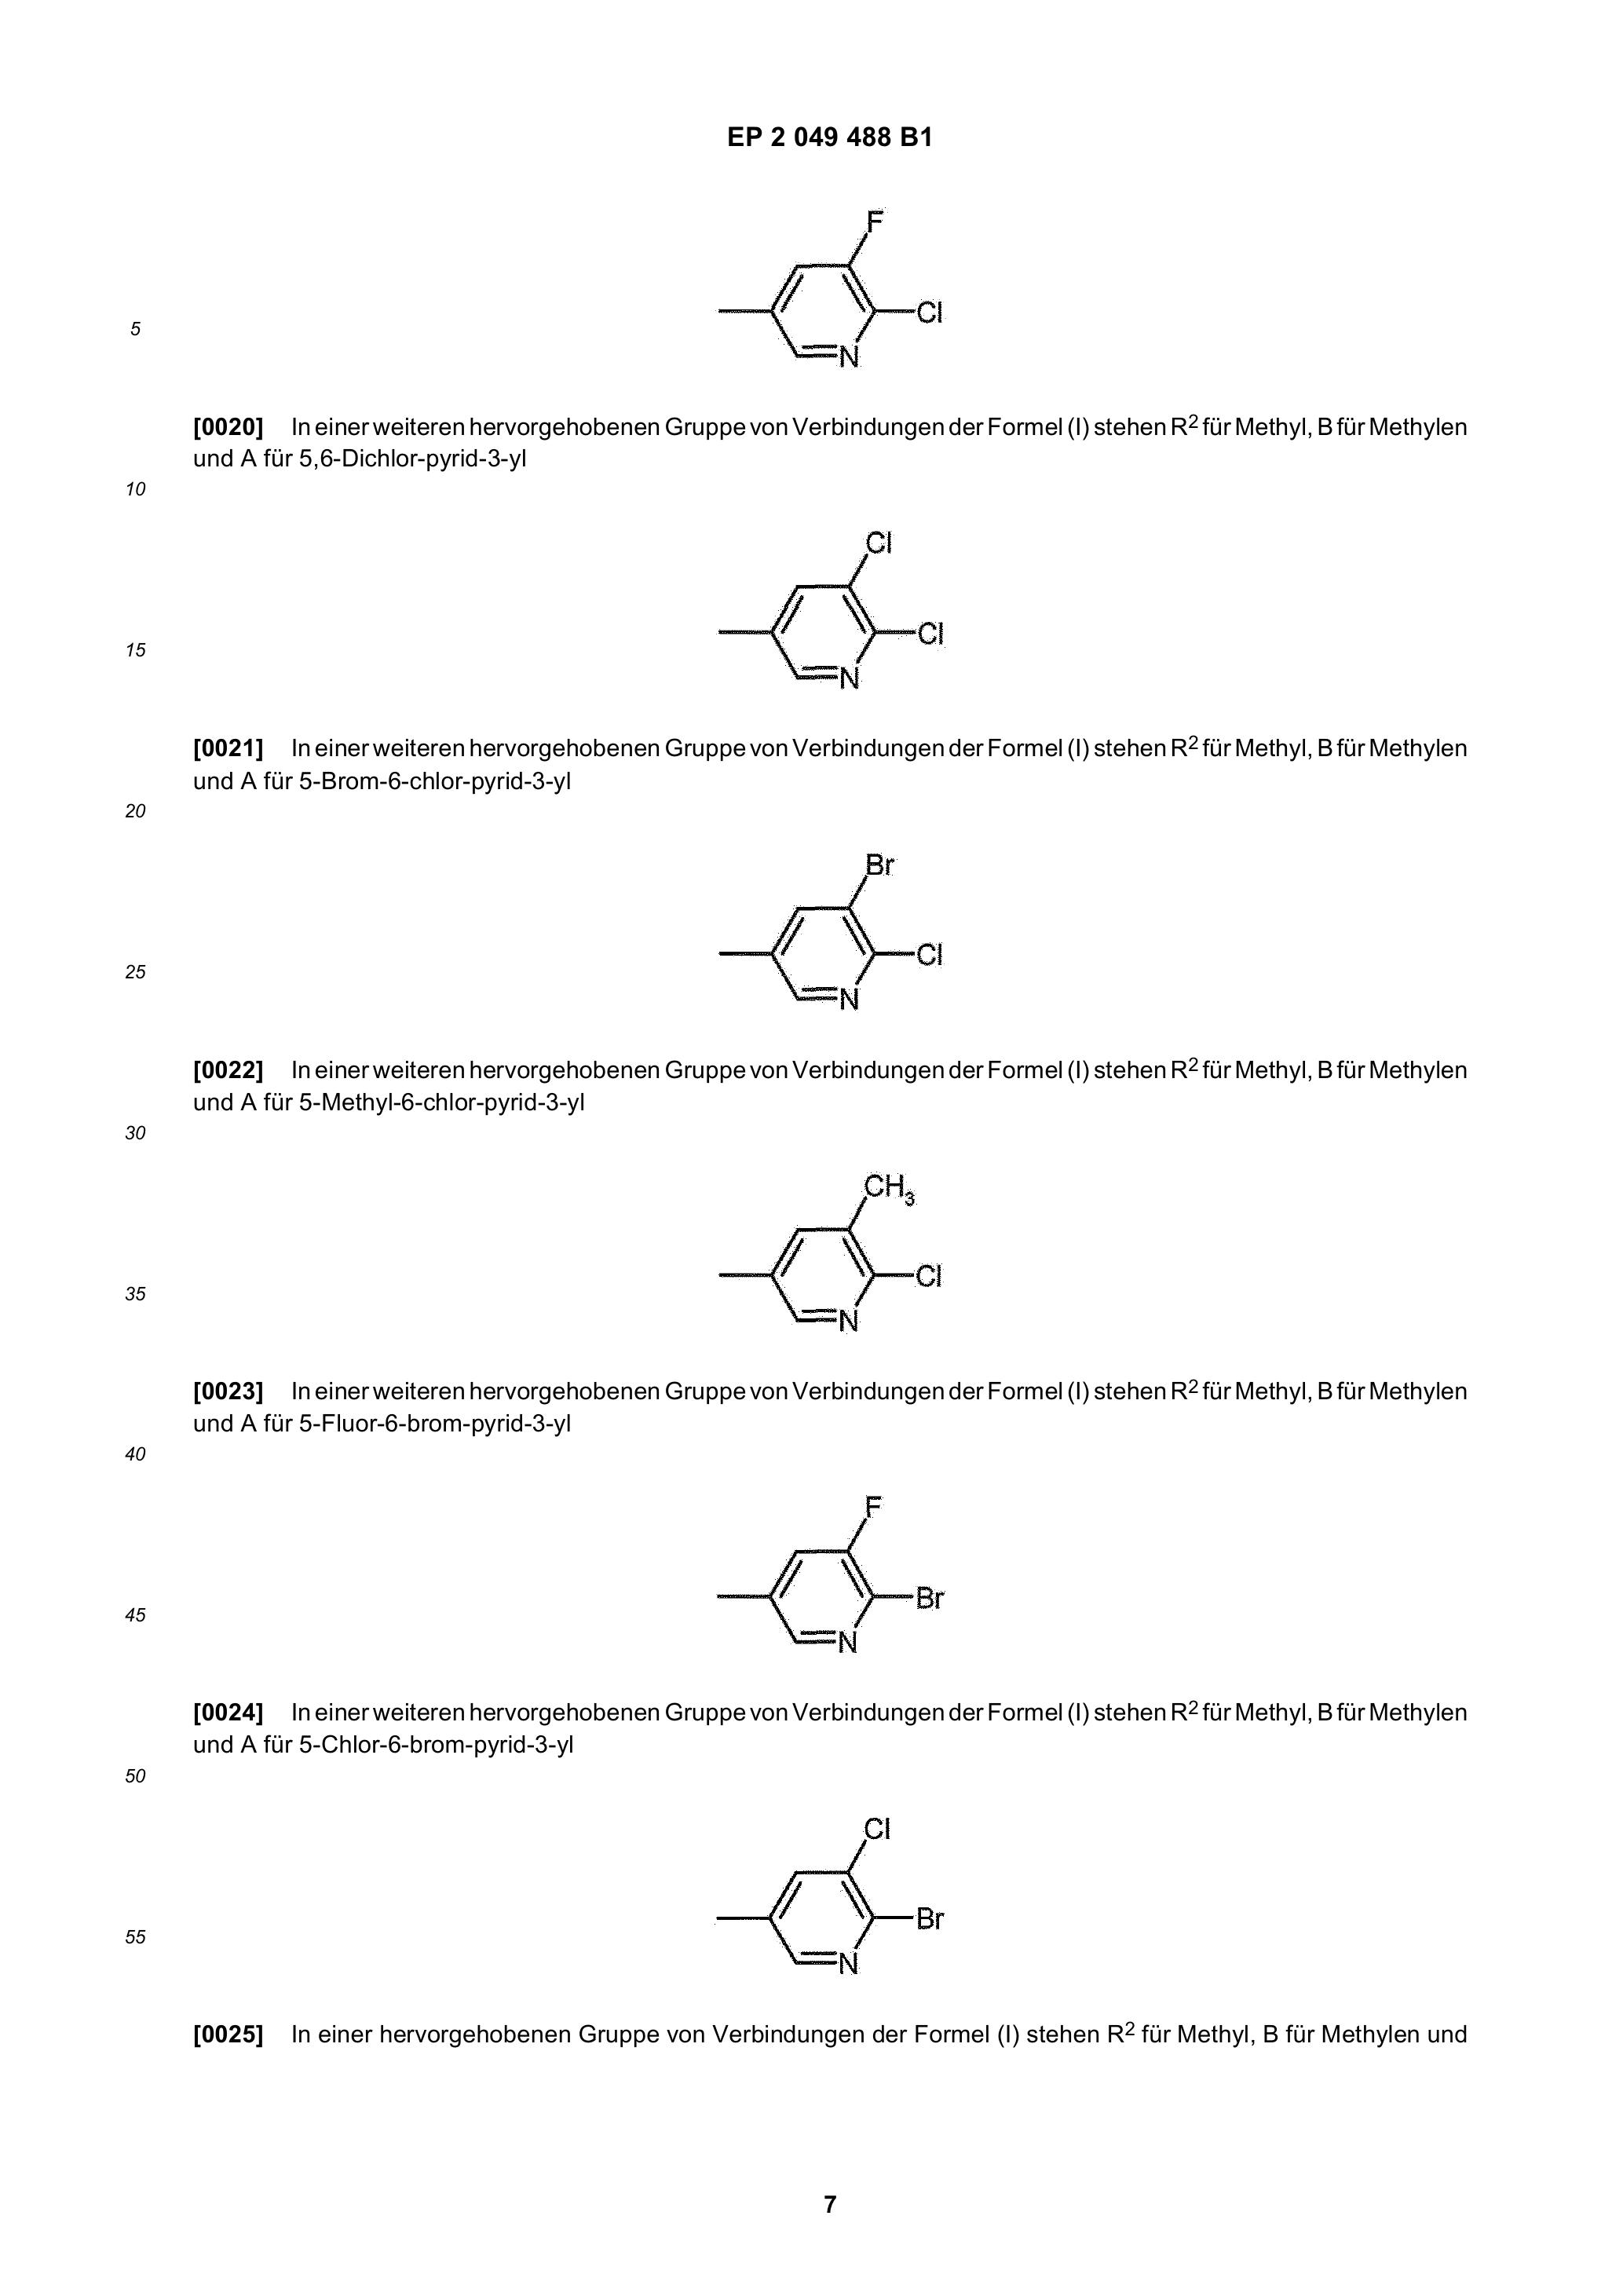intermediates: (696, 1432, 996, 1688), (682, 497, 1015, 704), (676, 1145, 1005, 1354), (690, 1778, 985, 2010), (690, 169, 999, 386), (706, 817, 989, 1021)
